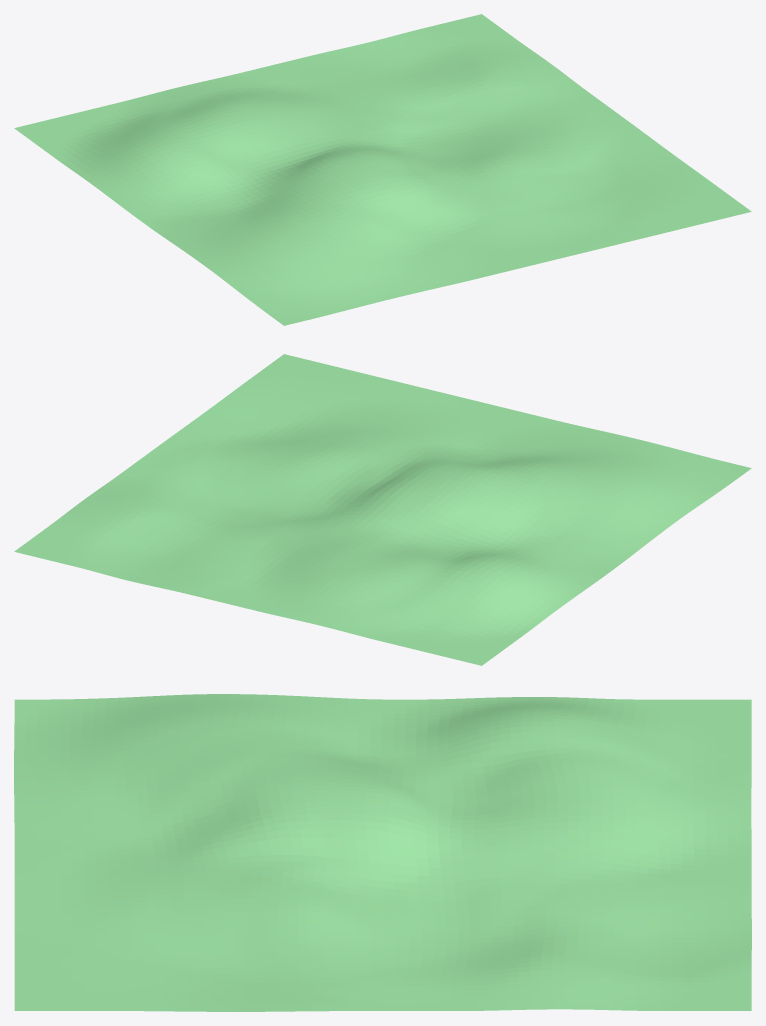
Rendered from Ground.fbx.
3 renders of one model, top to bottom at view 1: azimuth 30°, elevation 25°; view 2: azimuth 150°, elevation 25°; view 3: azimuth 270°, elevation 25°, orthographic. The views are drawn at different scales.
Visible parts, largest first — view 1: Plane; view 2: Plane; view 3: Plane.
Boxes of the visible parts, left/top/right/bottom form: Plane: left=14, top=14, right=751, bottom=325; Plane: left=14, top=354, right=751, bottom=665; Plane: left=14, top=694, right=751, bottom=1011.
Size of the model in its own units: 10.83 by 0.6241 by 10.81.
